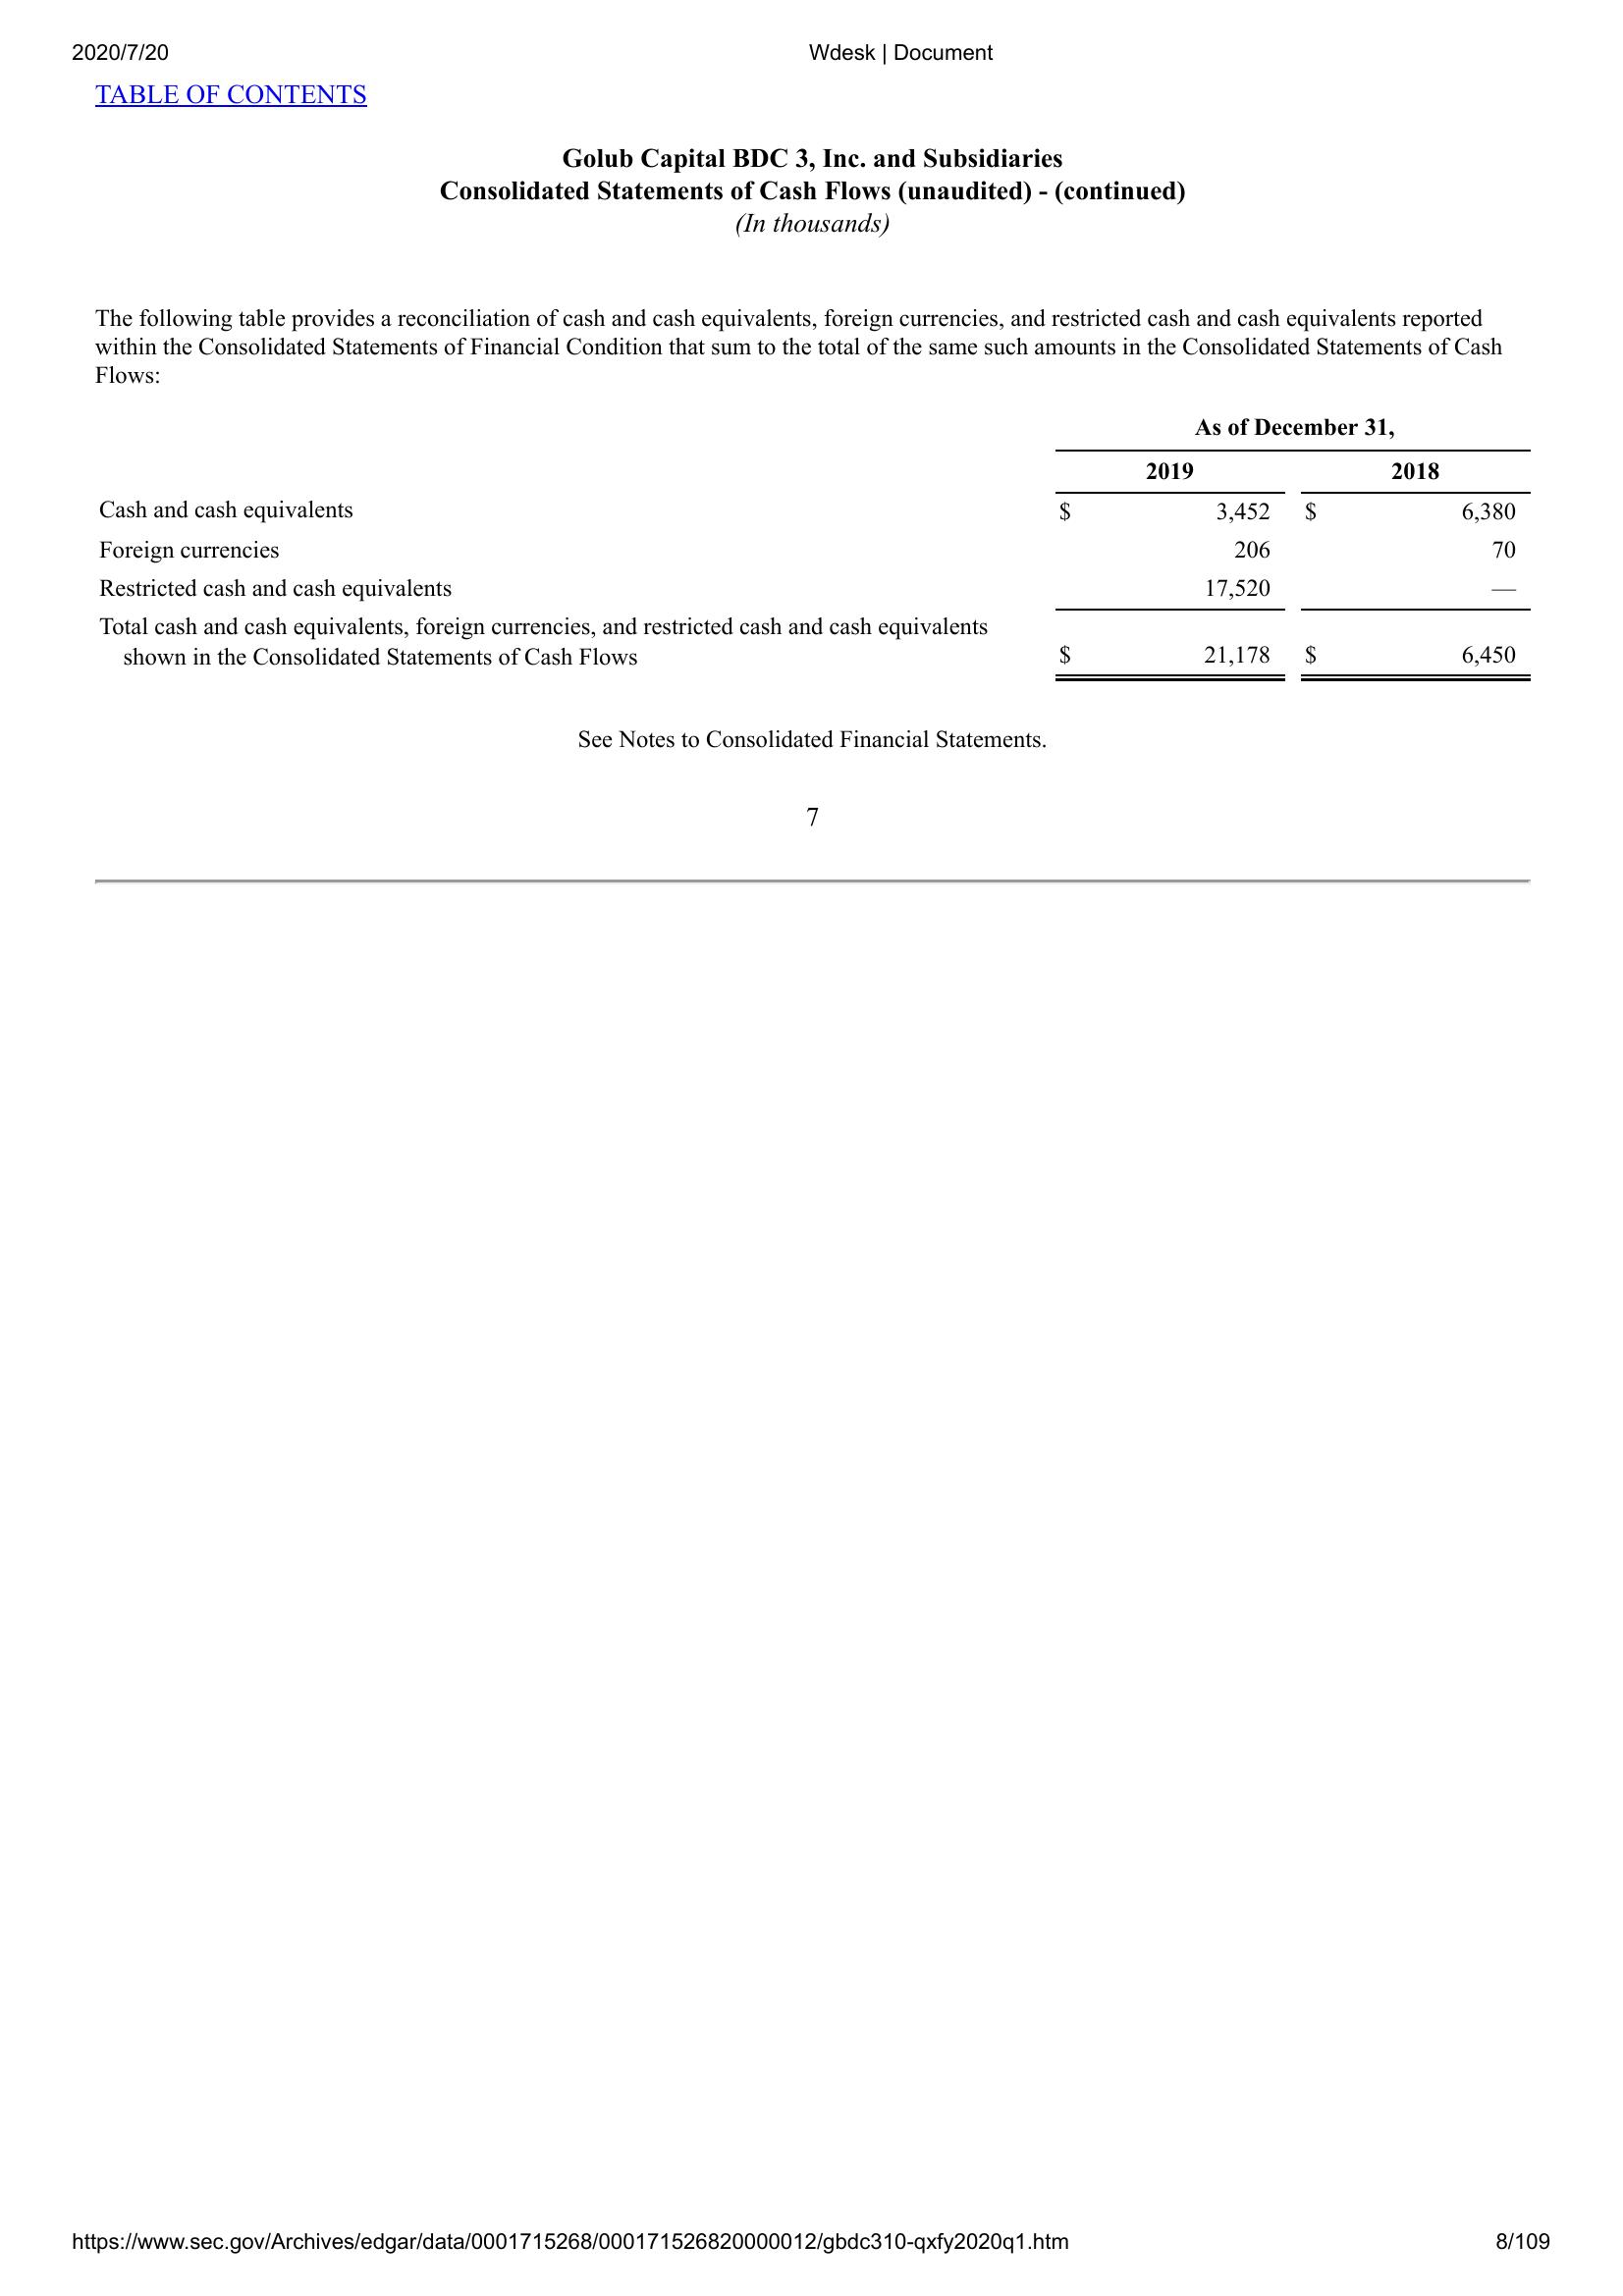table: (90, 416, 1544, 697)
